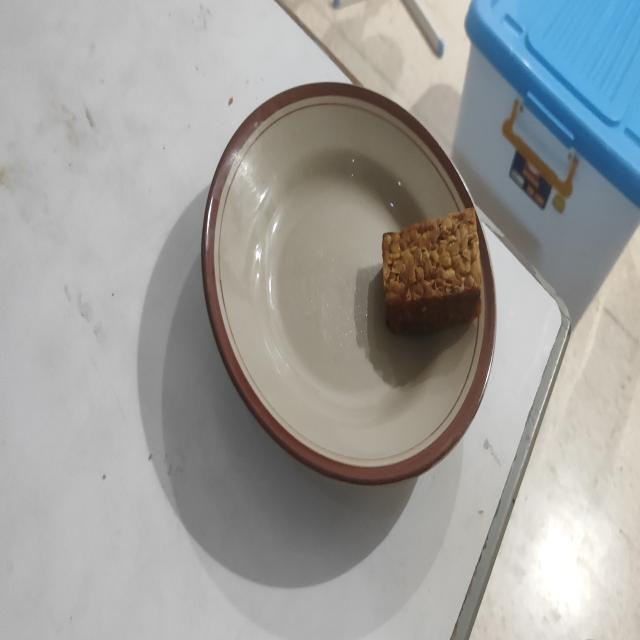tempe_goreng: (382, 208, 482, 334)
